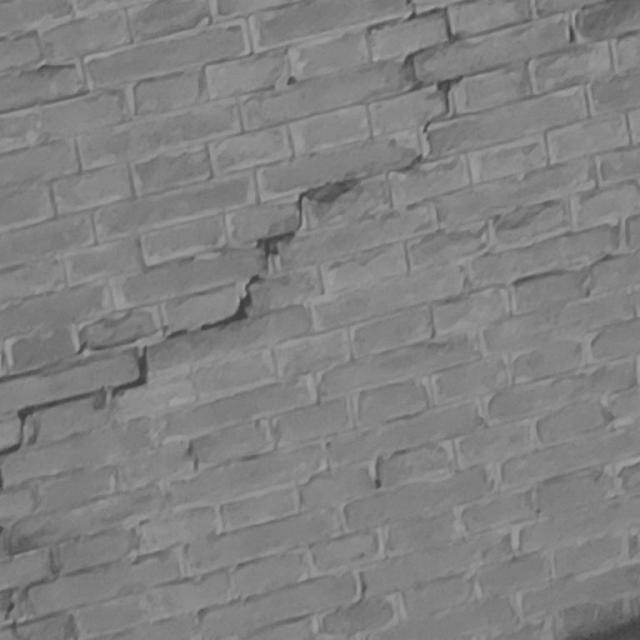crack: (1, 1, 463, 457)
